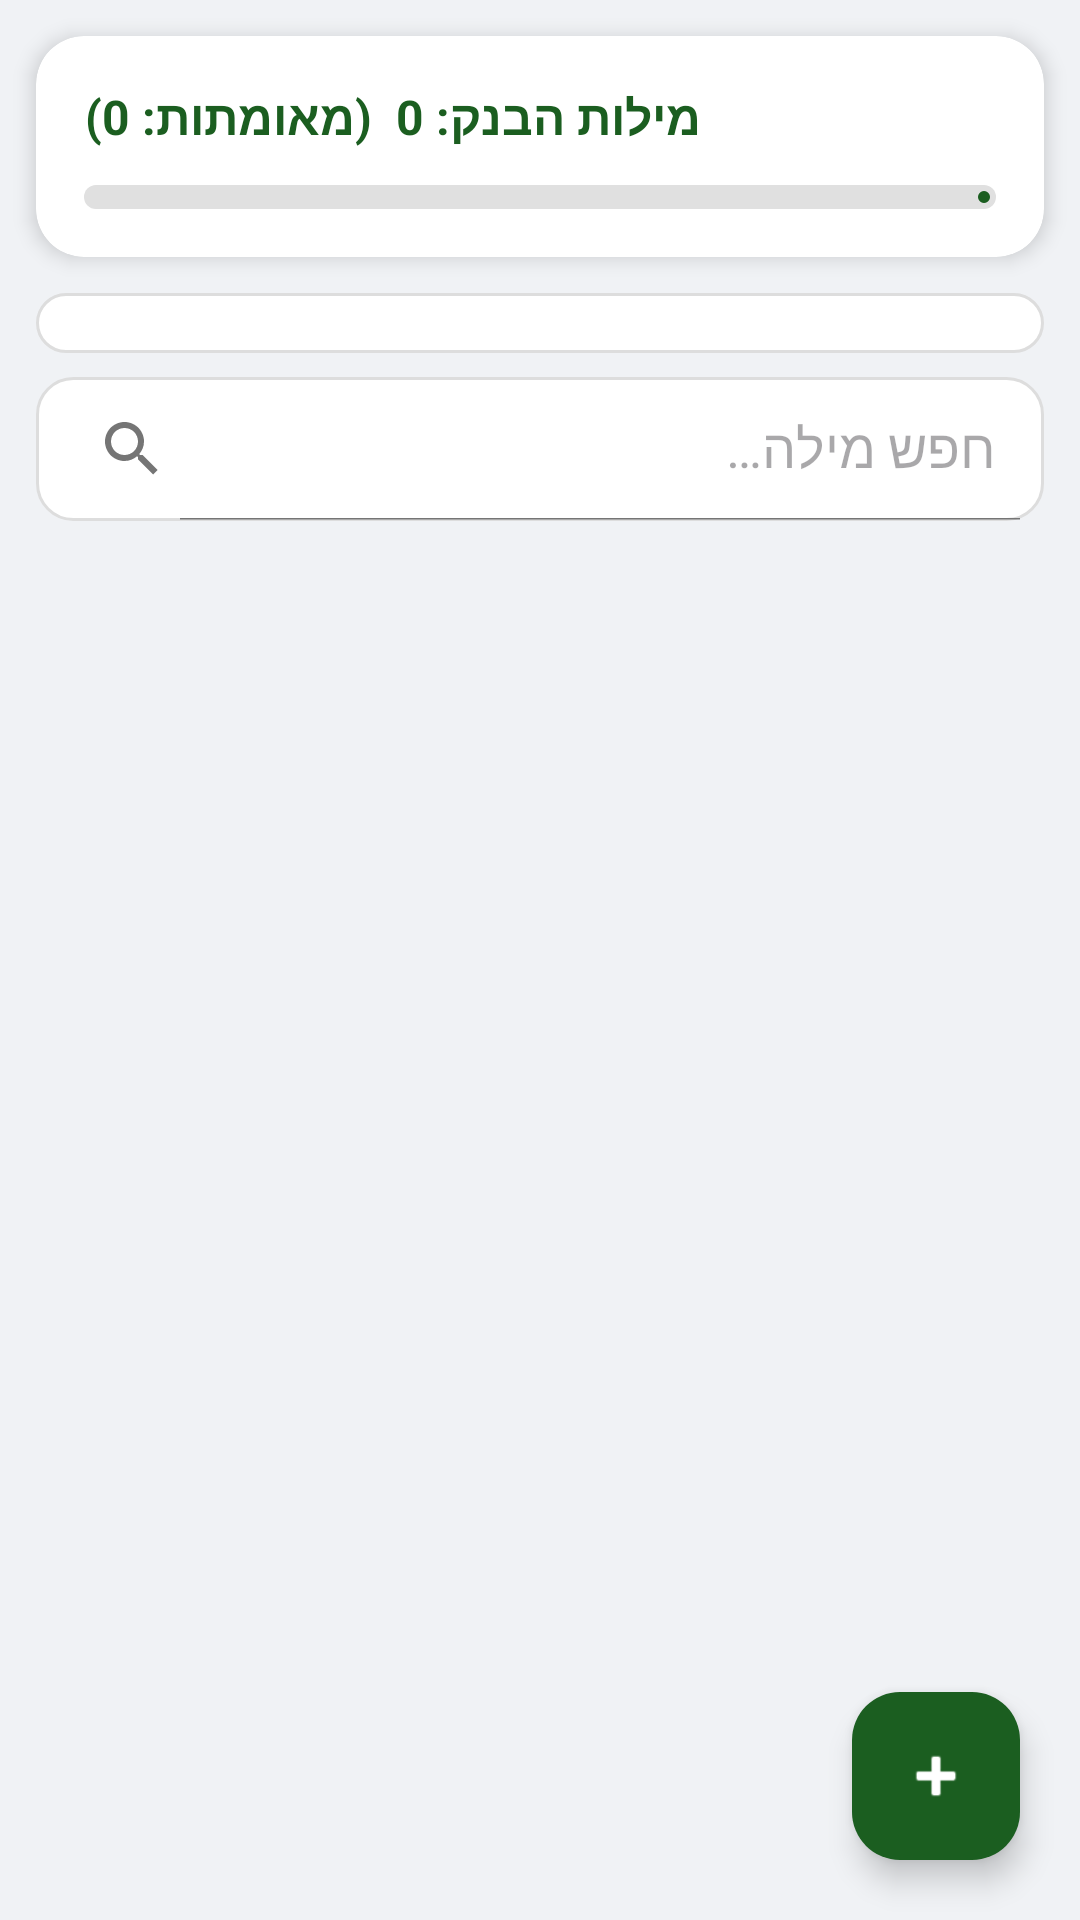

Named icons in this screenshot (1080×1920) and their bounding boxes, (x1, y1, x2, y2):
הוסף מילה: (852, 1692, 1020, 1860)
